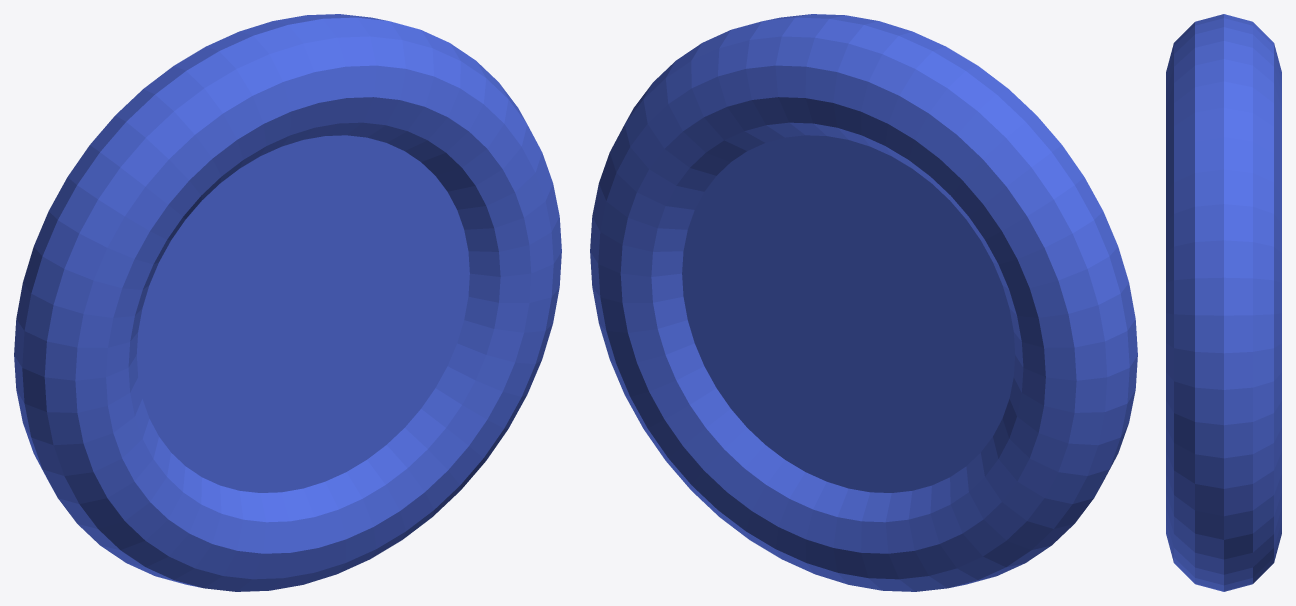
File: davidCubeVarA1.gltf
The picture shows the model from 3 angles, left to right: view 1: azimuth 30°, elevation 25°; view 2: azimuth 150°, elevation 25°; view 3: azimuth 270°, elevation 25°; orthographic projection. The views are drawn at different scales.
Parts seen in each view (by area): view 1: davidCubeVarA1; view 2: davidCubeVarA1; view 3: davidCubeVarA1.
Part boxes in pixels (box(x1,y1,x2,y2)): davidCubeVarA1: box(14, 14, 561, 591); davidCubeVarA1: box(590, 14, 1137, 591); davidCubeVarA1: box(1166, 14, 1281, 591).
Bounding box in the file's own units: 1.24 × 1.24 × 0.2484.
